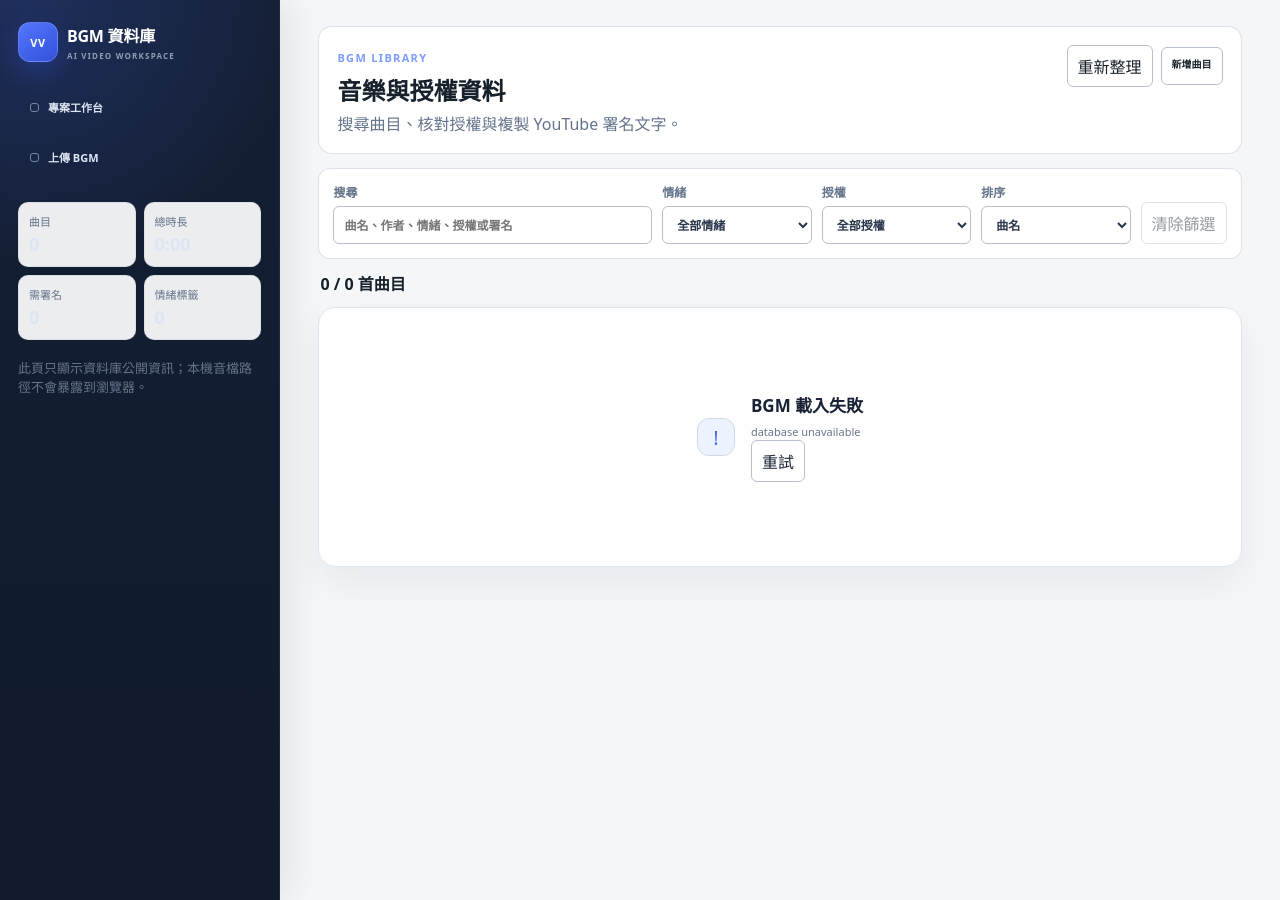
BgmLibraryPage › shows a retryable error state
This screenshot has width=1280, height=900.
Expected: the heading "BGM 載入失敗" is shown, [751,392,863,417]
Expected: the text "database unavailable" is shown, [751,423,863,440]
Click the button "重試".
click(778, 461)  # box [751,440,805,482]
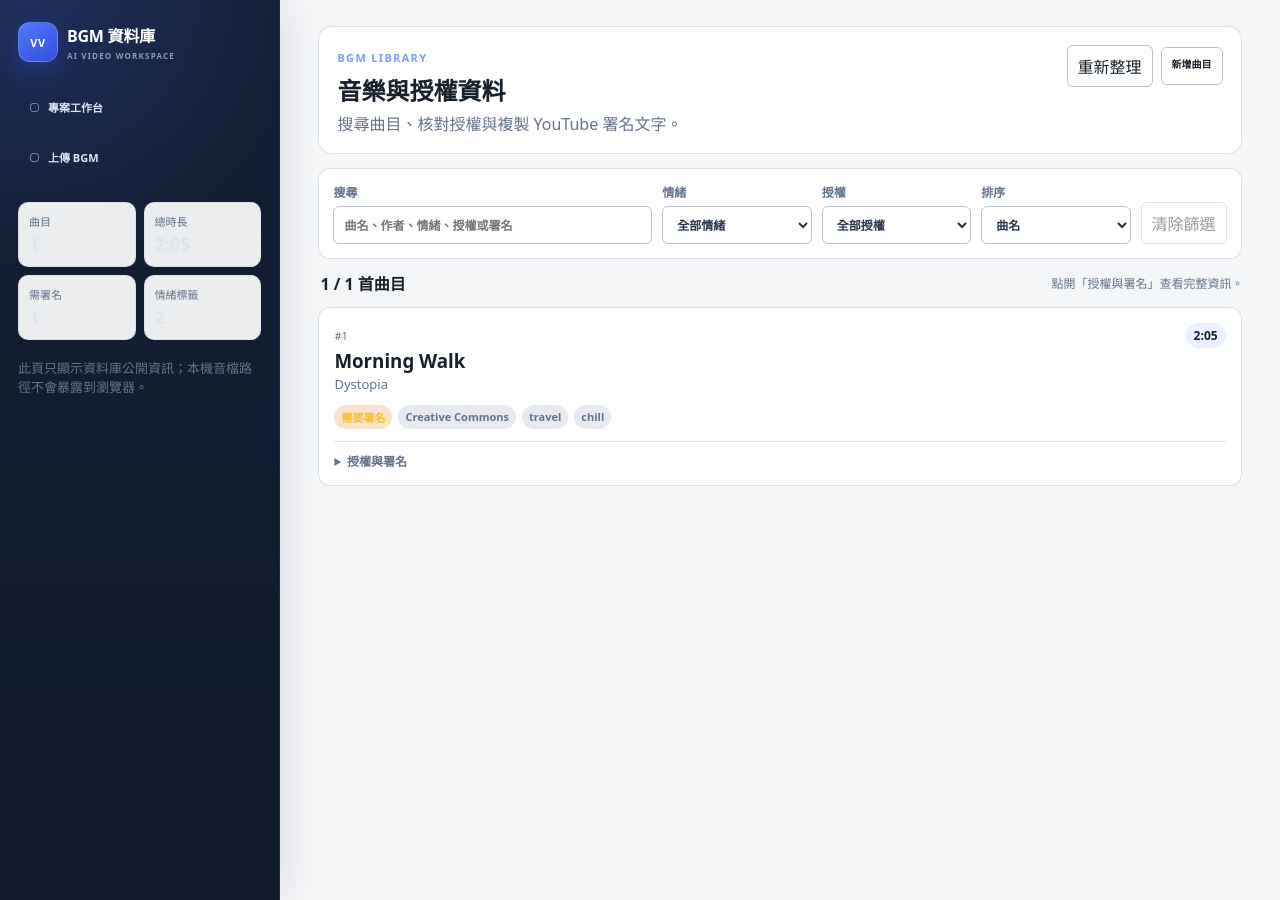
Expected: the heading "Morning Walk" is shown, [334,348,465,373]
